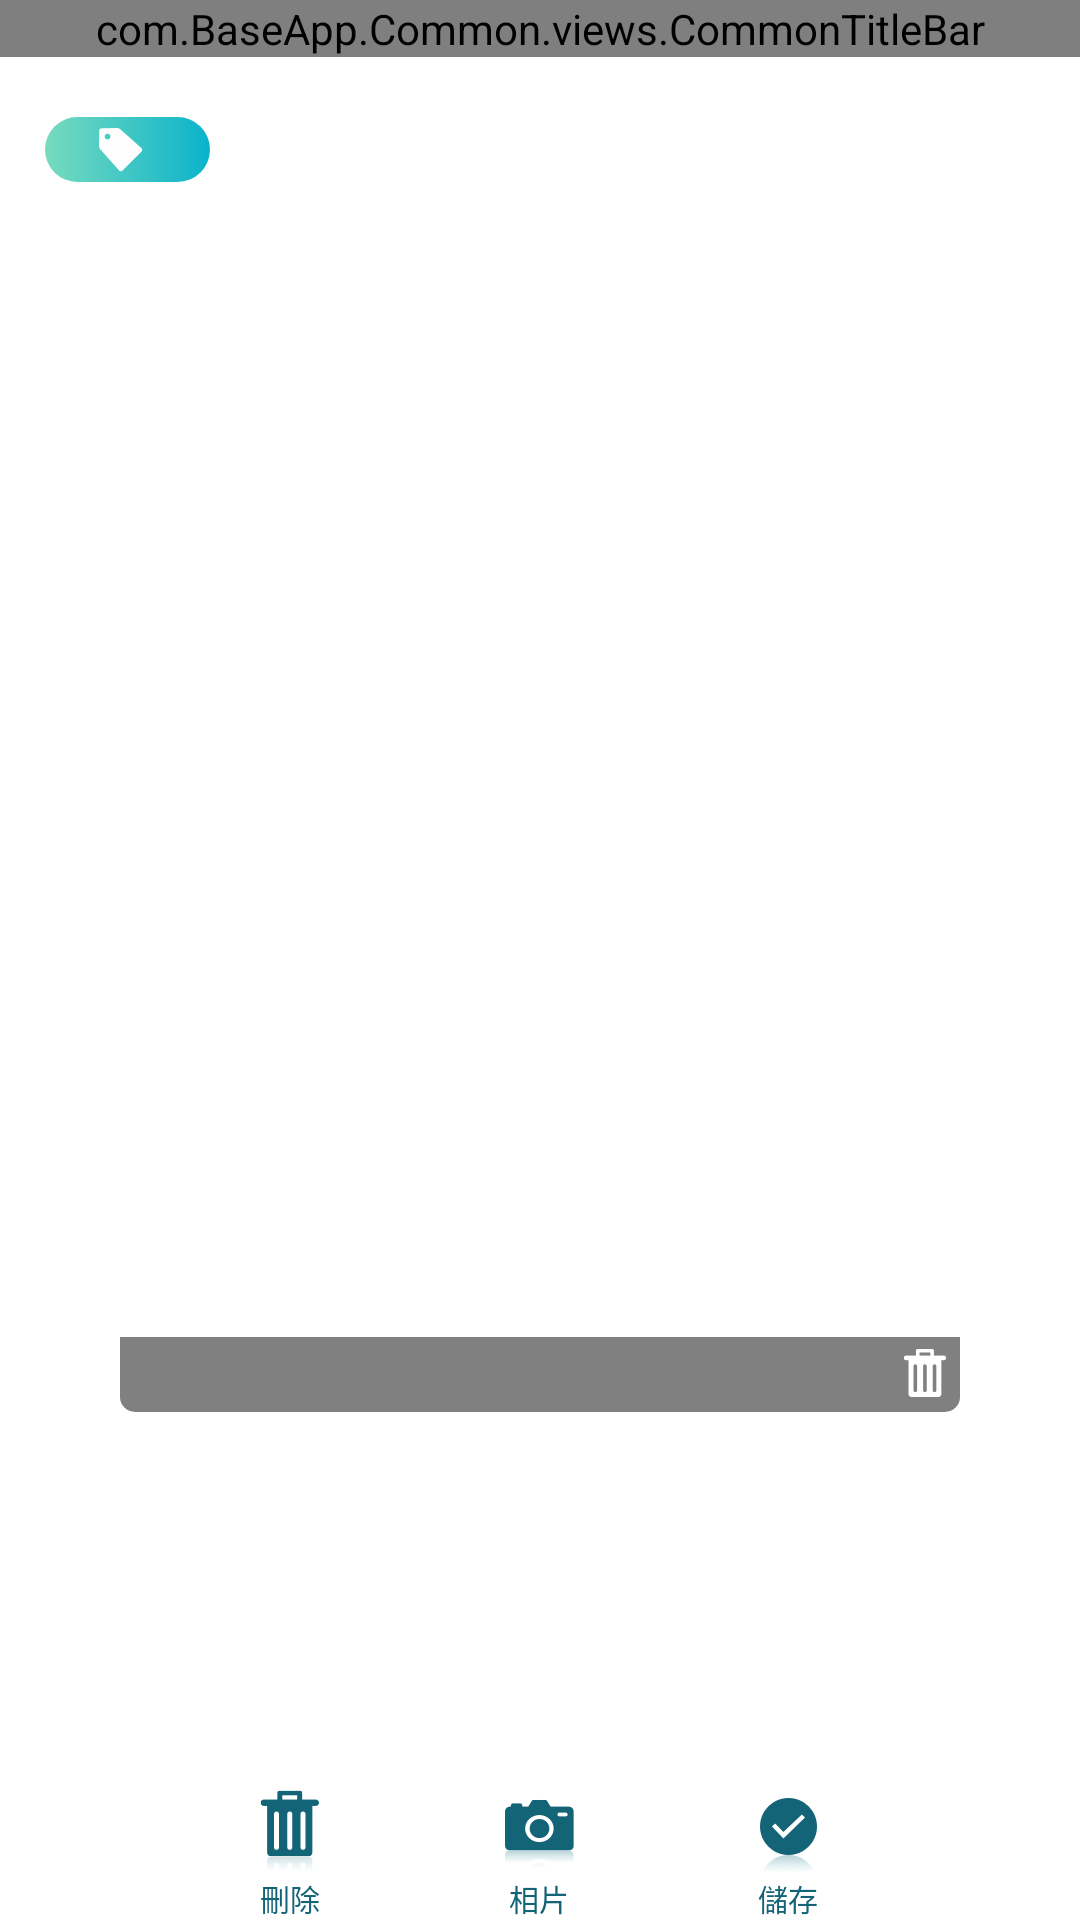

Point at icon controls on the screen. Image size 1080x1920, points as (x=x, y=y).
delete photo: (x=925, y=1373)
